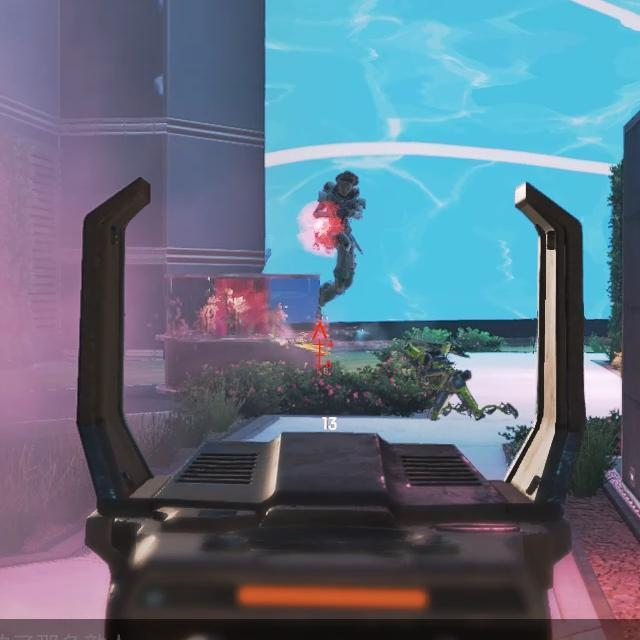avatar: (315, 169, 369, 309)
object: (297, 197, 347, 257)
